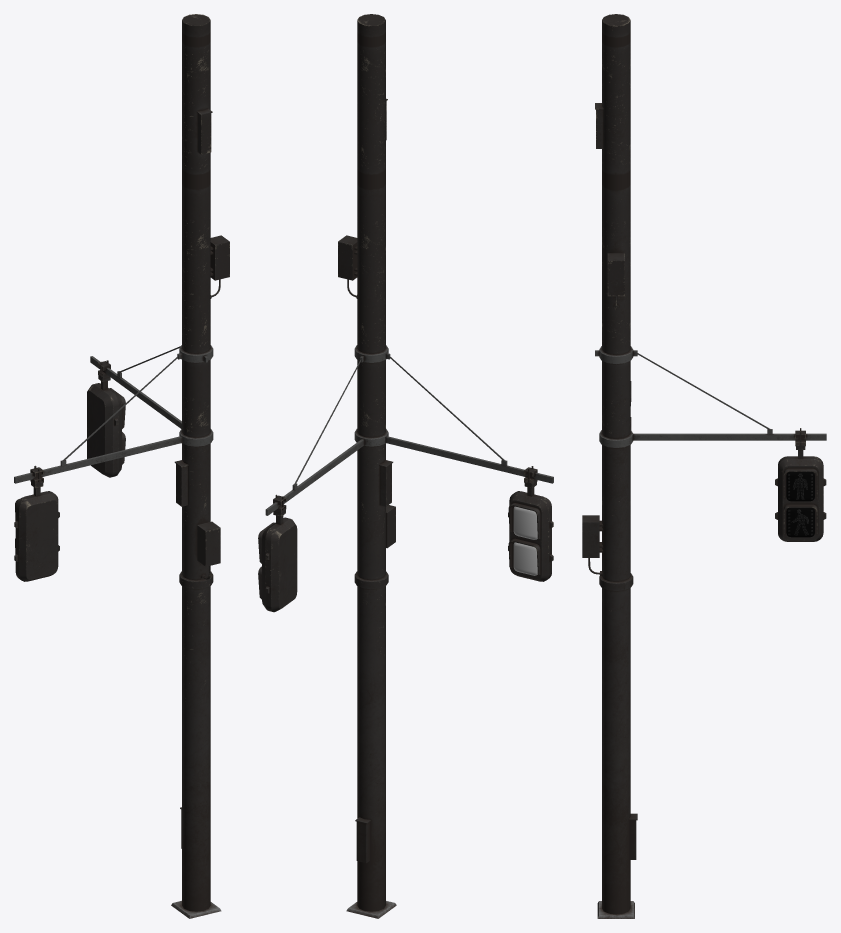
The model's file is jctTrafficLightC.fbx.
3 renders of one model, left to right at view 1: azimuth 30°, elevation 25°; view 2: azimuth 150°, elevation 25°; view 3: azimuth 270°, elevation 25°, orthographic.
Visible parts, largest first — view 1: jctTrafficLightC; view 2: jctTrafficLightC; view 3: jctTrafficLightC.
Part boxes in pixels (x1=…): jctTrafficLightC: x1=14, y1=14, x2=229, y2=918; jctTrafficLightC: x1=258, y1=14, x2=553, y2=918; jctTrafficLightC: x1=582, y1=14, x2=826, y2=918.
Size of the model in its own units: 187 by 752 by 187.
